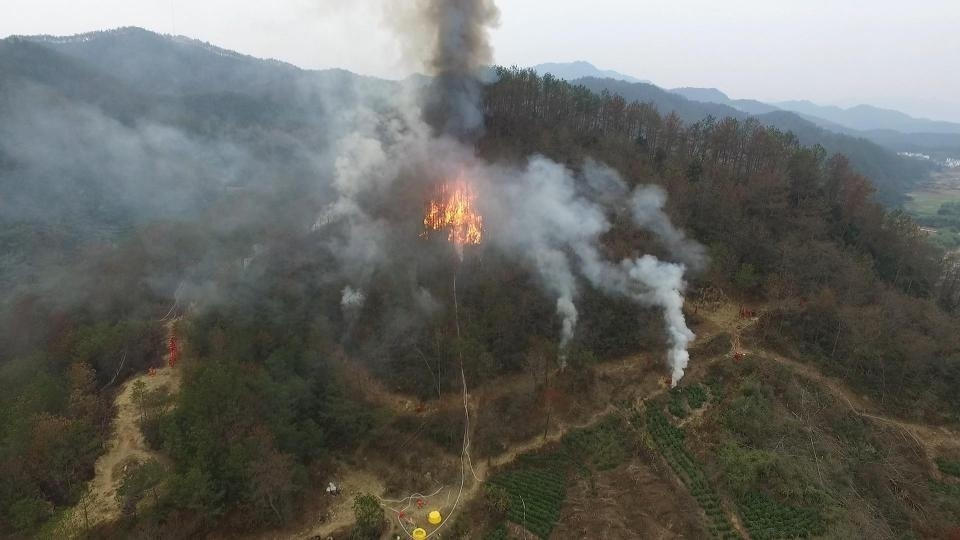fire: (411, 161, 494, 249)
